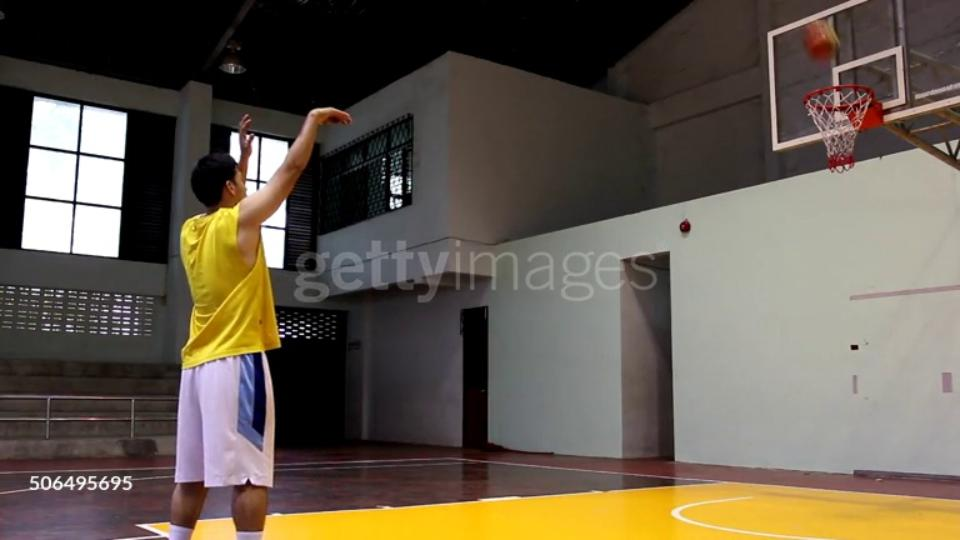hoop: (798, 84, 885, 115)
